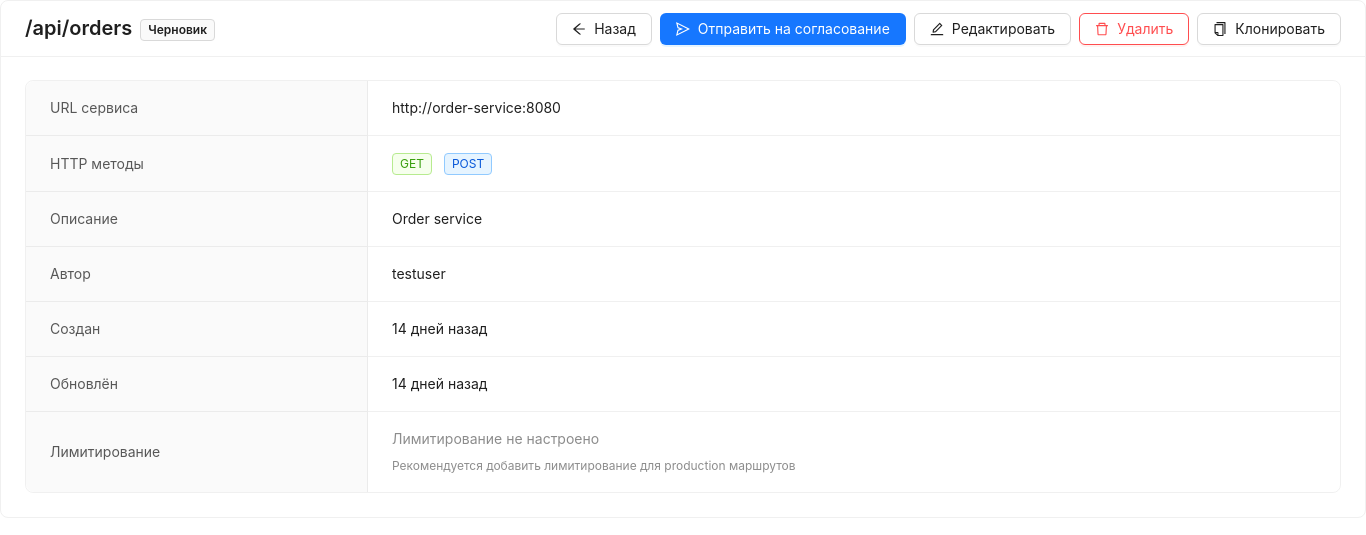
Test case: Delete UI (Story 10.4) › показывает Popconfirm при клике на кнопку Delete
The width and height of the screenshot is (1366, 535).
Click the button "Удалить": [1134, 28] box x1=1079 y1=12 x2=1189 y2=44
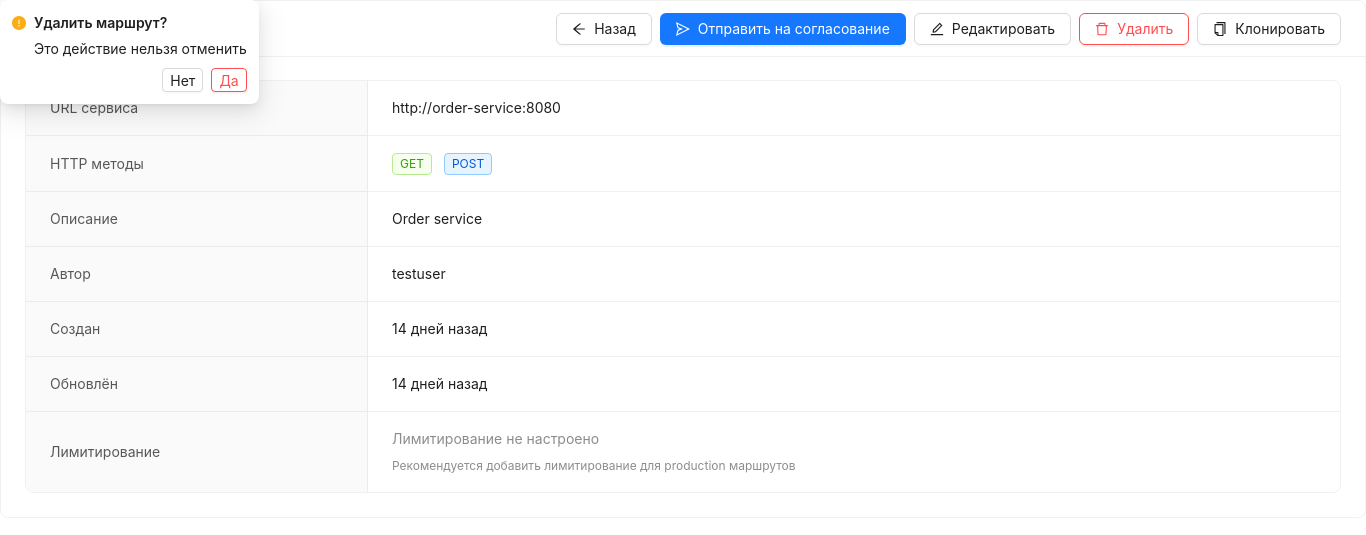
Check: the text "Это действие нельзя отменить" is shown, box x1=34 y1=38 x2=247 y2=60
